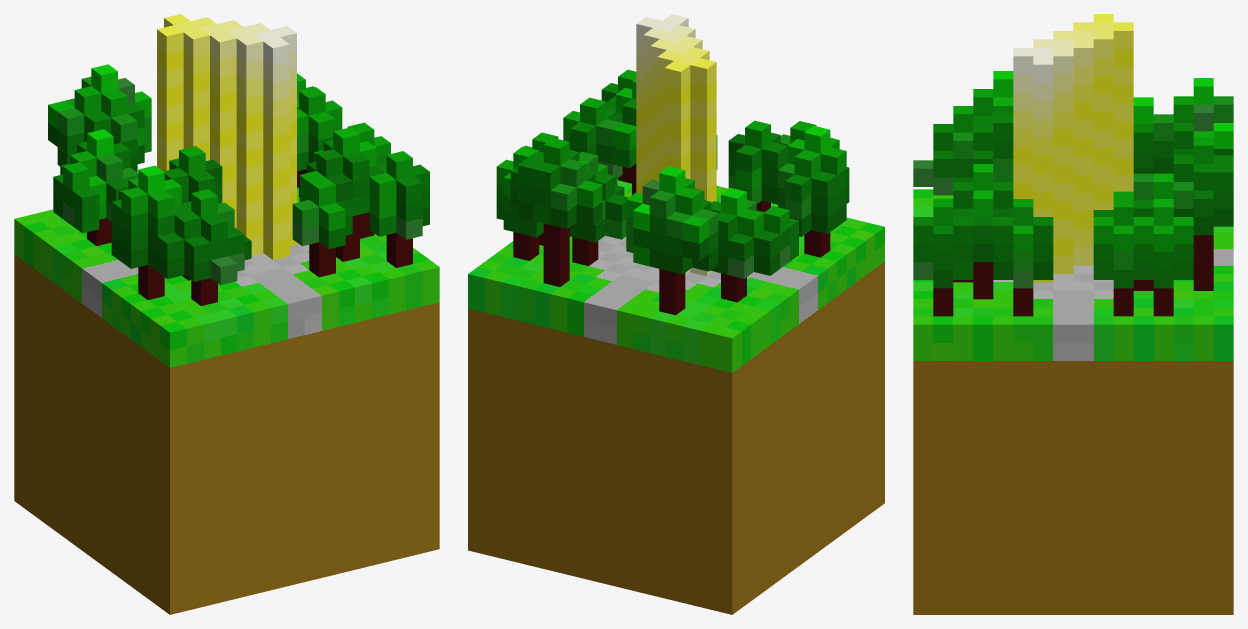
Rendered from monument_of_conquest.gltf.
3 views of the same model, side by side, from view 1: azimuth 30°, elevation 25°; view 2: azimuth 150°, elevation 25°; view 3: azimuth 270°, elevation 25° (orthographic). The views are drawn at different scales.
Parts seen in each view (by area): view 1: Content-Mesh; view 2: Content-Mesh; view 3: Content-Mesh.
Part boxes in pixels (x1,y1,x2,y2): Content-Mesh: (14, 14, 439, 614); Content-Mesh: (468, 14, 884, 614); Content-Mesh: (913, 14, 1233, 614).
Bounding box in the file's own units: 16 × 28 × 16.
1 material, 1 textured.
